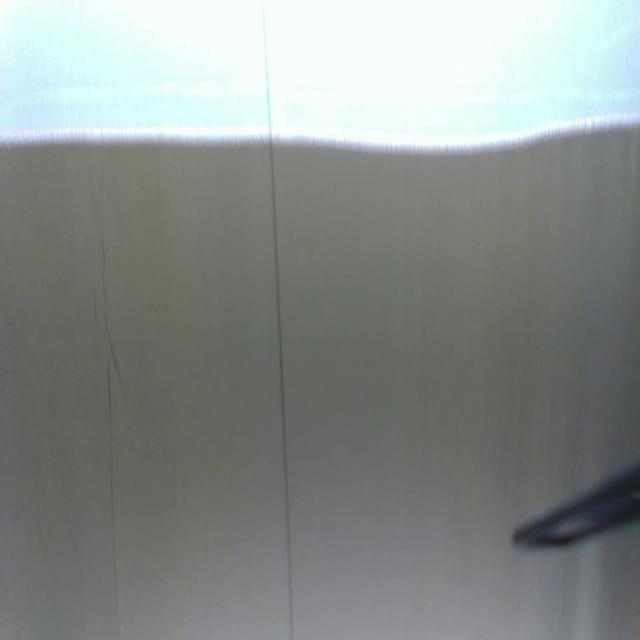crease: (256, 0, 294, 638), (98, 231, 126, 639)
